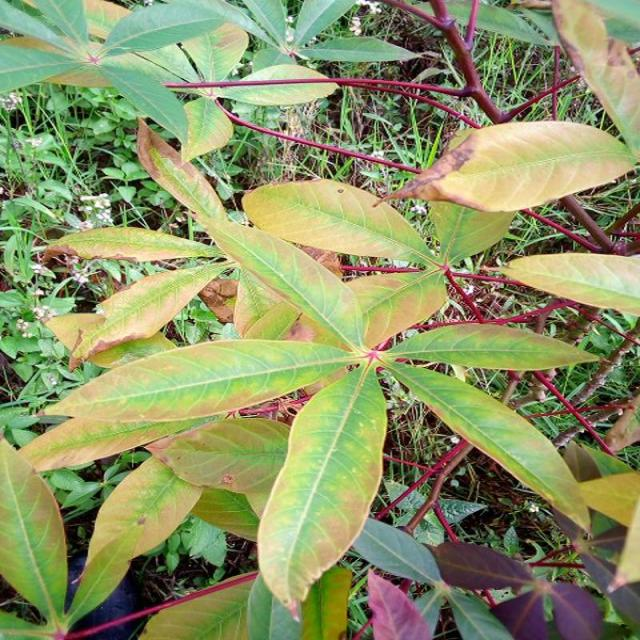cassava leaf: (255, 361, 387, 608), (379, 118, 637, 214)
